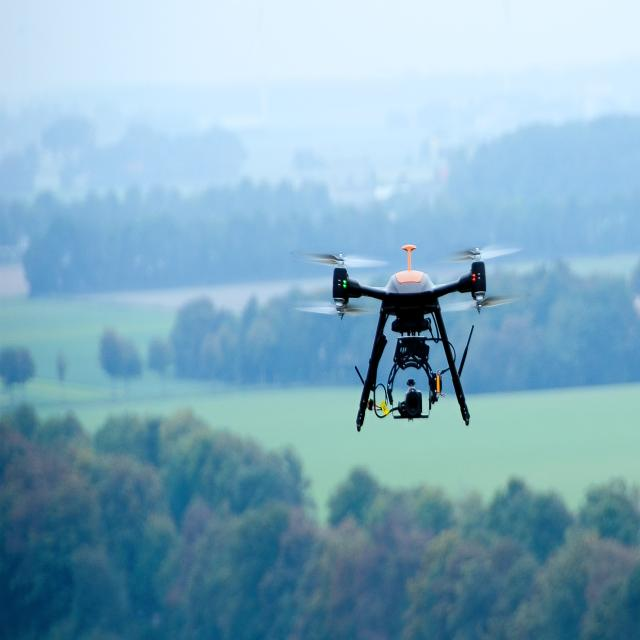drone: (288, 235, 529, 432)
